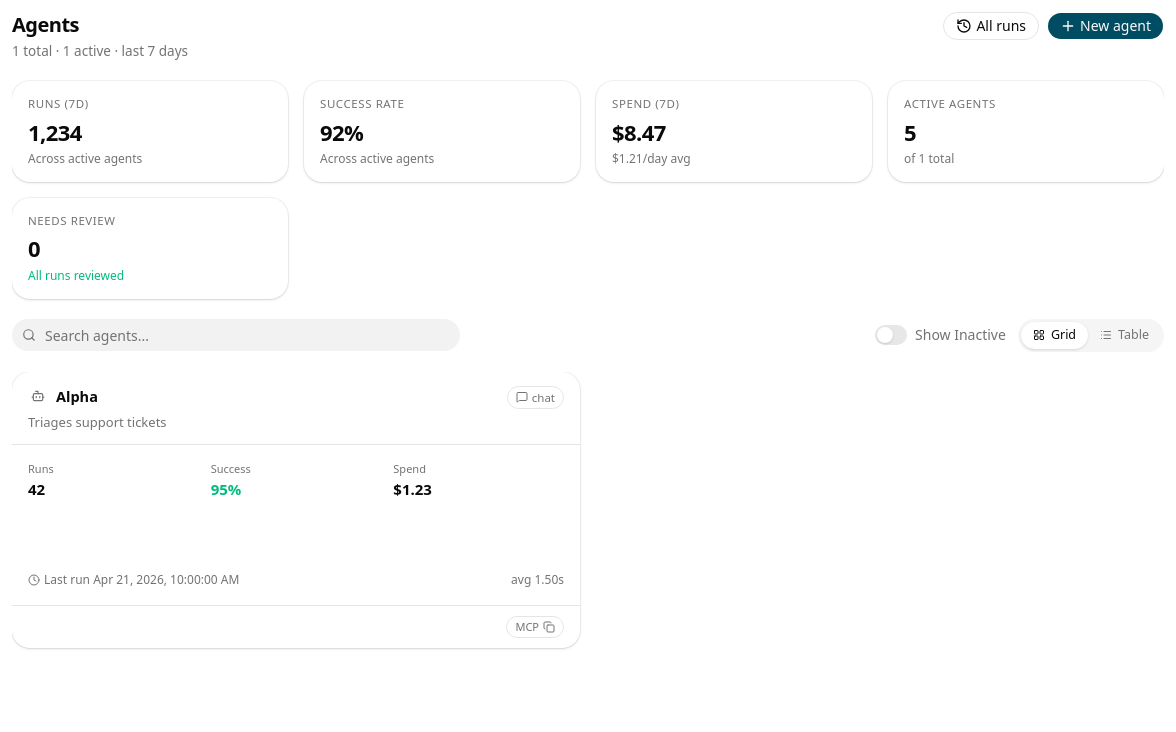
Test: FleetPage — view toggle › switches to table view when the table toggle is clicked
The width and height of the screenshot is (1176, 732).
Click the button with aria-label "table view".
click(1125, 335)  # box [1088,322,1161,349]
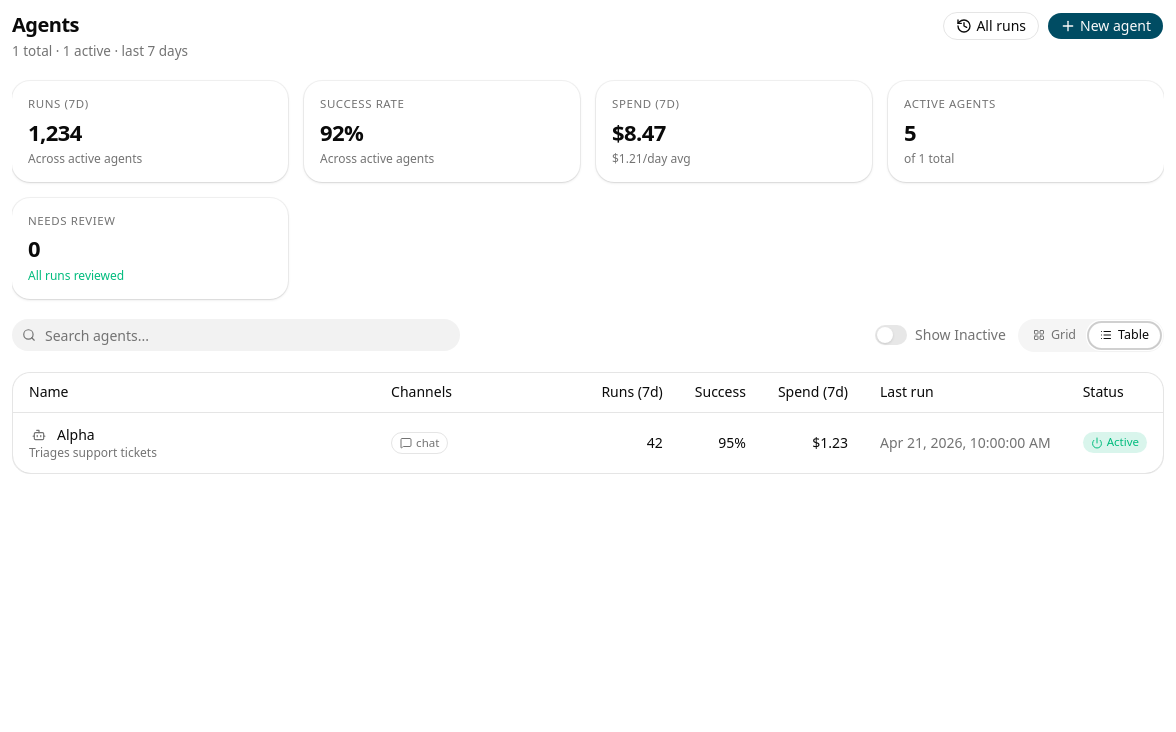
Expected: the text "Alpha" is shown, [57,425,95,445]
Now the table is shown, box [13,372,1163,473]
Now the column heading "Runs (7d)" is shown, box [585,372,679,412]
